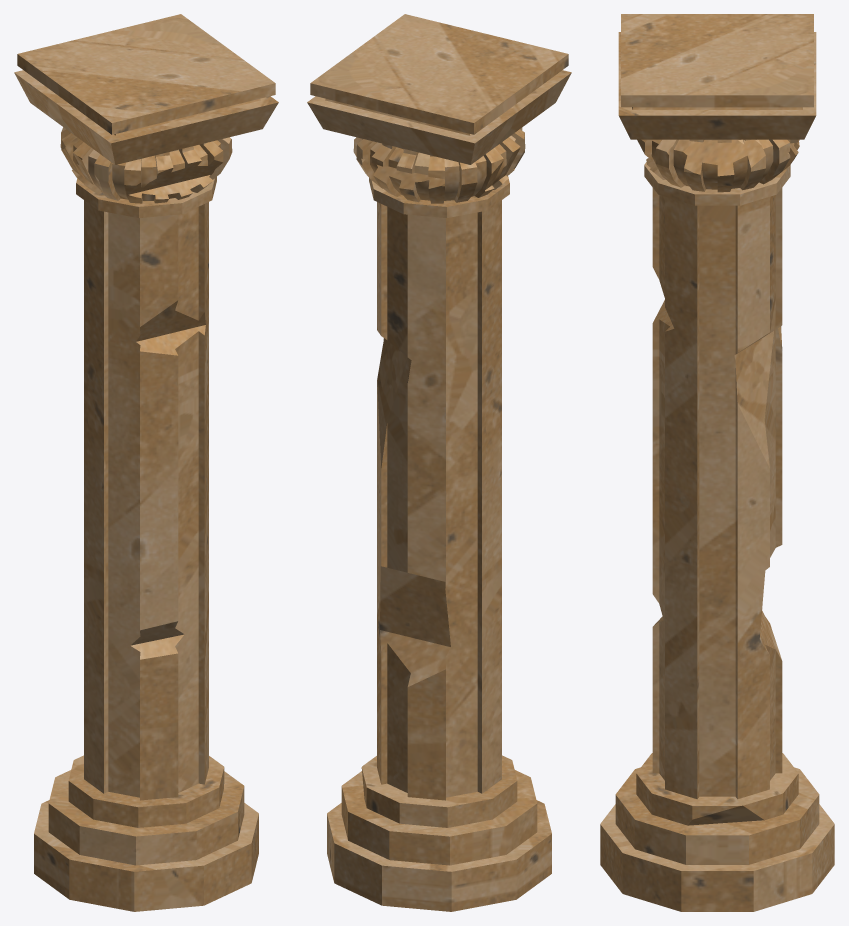
File: low_poly_pillar.glb
3 views of the same model, side by side, from view 1: azimuth 30°, elevation 25°; view 2: azimuth 150°, elevation 25°; view 3: azimuth 270°, elevation 25° (orthographic).
Parts seen in each view (by area): view 1: Cube.004; view 2: Cube.004; view 3: Cube.004.
Boxes of the visible parts, left/top/right/bottom form: Cube.004: left=14, top=14, right=278, bottom=911; Cube.004: left=307, top=14, right=571, bottom=911; Cube.004: left=600, top=14, right=834, bottom=911.
Size of the model in its own units: 1.9 by 7.62 by 2.
1 material, 1 textured.
